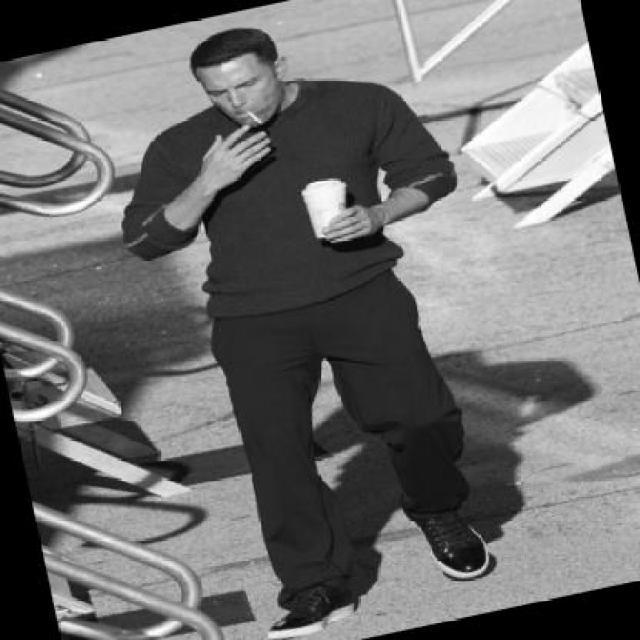cigarette: (243, 106, 266, 128)
